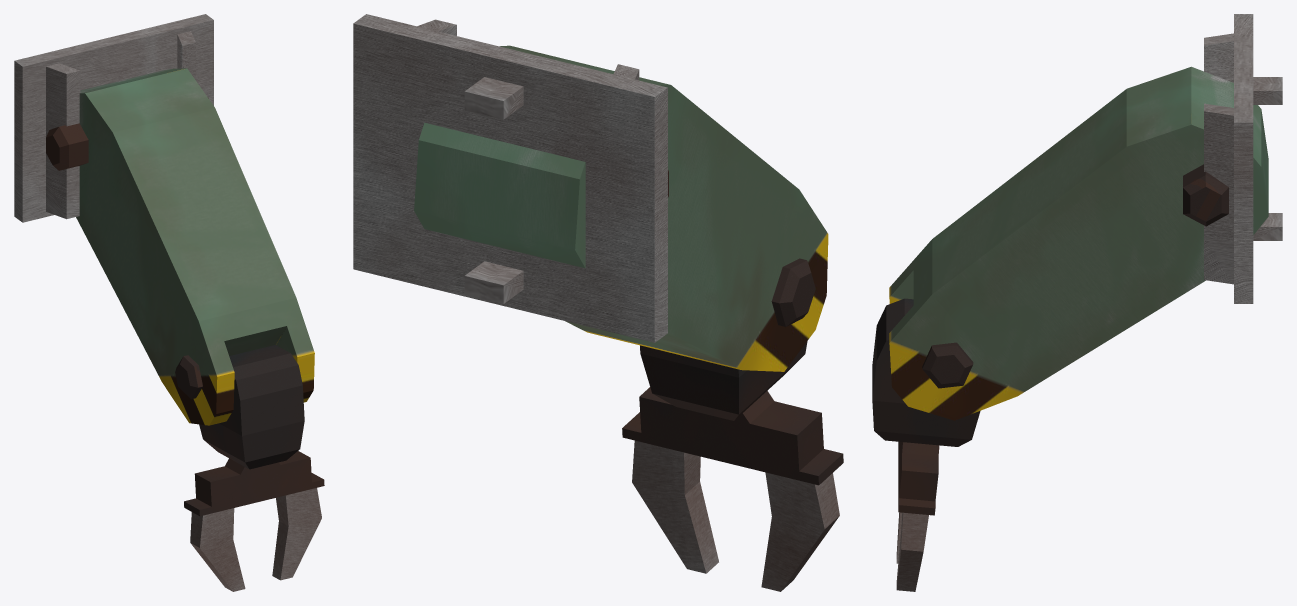
The model's file is mech2.fbx.
3 views of the same model, side by side, from view 1: azimuth 30°, elevation 25°; view 2: azimuth 150°, elevation 25°; view 3: azimuth 270°, elevation 25° (orthographic). The views are drawn at different scales.
Visible parts, largest first — view 1: BrasMec, BrasMec_Base, BrasMec_Pince, BrasMec_Pince1, BrasMec_Pince2; view 2: BrasMec_Base, BrasMec, BrasMec_Pince, BrasMec_Pince1, BrasMec_Pince2; view 3: BrasMec, BrasMec_Base, BrasMec_Pince, BrasMec_Pince1.
Part boxes in pixels (x1,y1,x2,y2): BrasMec: (76, 68, 314, 425); BrasMec_Base: (14, 14, 213, 222); BrasMec_Pince: (184, 345, 324, 516); BrasMec_Pince1: (272, 488, 321, 580); BrasMec_Pince2: (190, 508, 245, 591); BrasMec_Base: (353, 14, 668, 342); BrasMec: (414, 45, 828, 371); BrasMec_Pince: (622, 341, 843, 485); BrasMec_Pince1: (632, 440, 718, 573); BrasMec_Pince2: (761, 472, 839, 591); BrasMec: (889, 66, 1268, 420); BrasMec_Base: (1183, 14, 1282, 303); BrasMec_Pince: (872, 298, 980, 515); BrasMec_Pince1: (896, 512, 928, 591).
Size of the model in its own units: 114 by 248 by 182.
